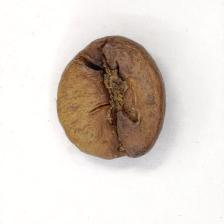NG: (77, 44, 147, 151)
